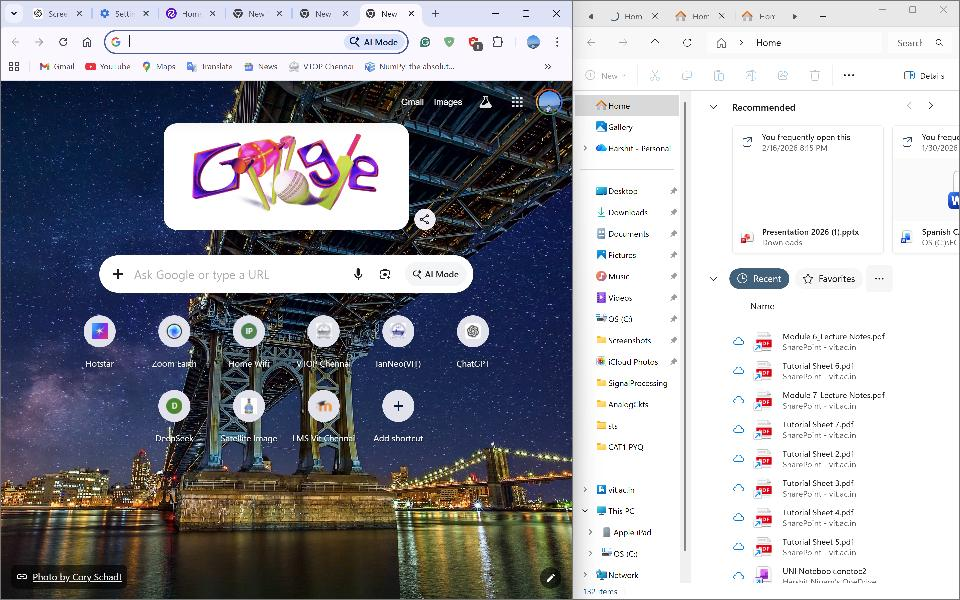close_button: (545, 3, 569, 24), (934, 2, 954, 18)
maximize_button: (512, 3, 538, 23), (904, 3, 923, 22)
minimize_button: (486, 2, 507, 25), (874, 3, 892, 19)
